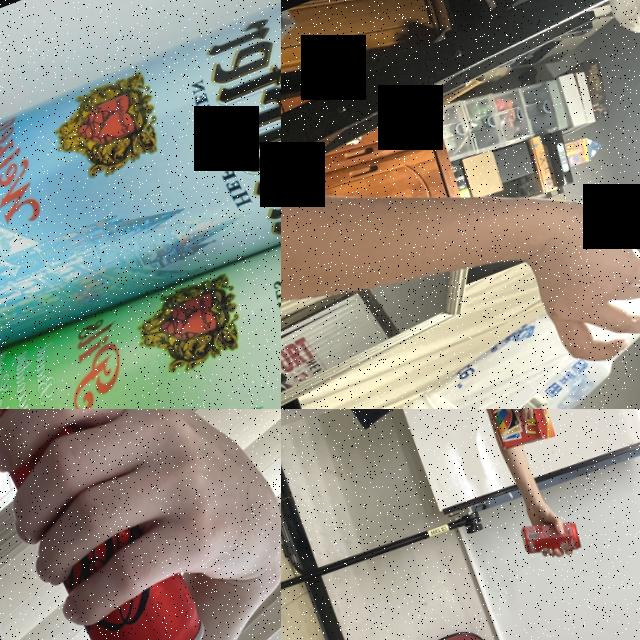can: (0, 0, 281, 392), (0, 178, 281, 409), (0, 409, 220, 640), (515, 508, 585, 568)
cup: (383, 266, 640, 409)
